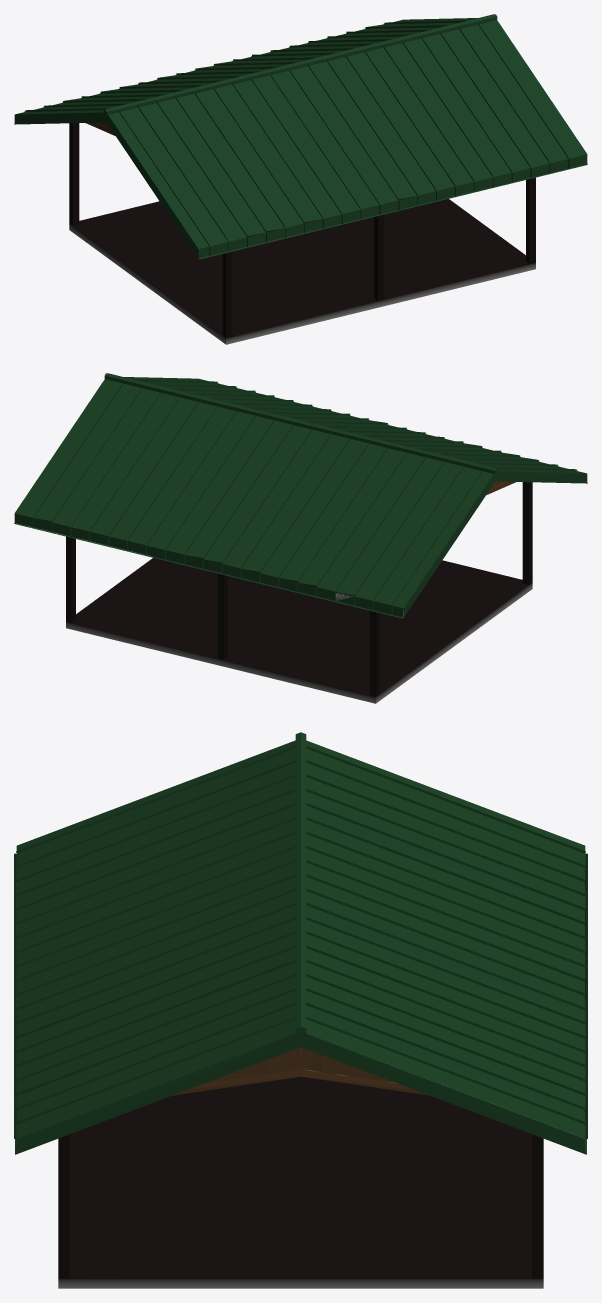
File: rest-shelter.lod0.glb
The picture shows the model from 3 angles, top to bottom: view 1: azimuth 30°, elevation 25°; view 2: azimuth 150°, elevation 25°; view 3: azimuth 270°, elevation 25°; orthographic projection. The views are drawn at different scales.
Parts seen in each view (by area): view 1: Material2; view 2: Material2; view 3: Material2.
Boxes of the visible parts, x1,y1,x2,y2 form: Material2: [14, 14, 587, 344]; Material2: [14, 373, 587, 703]; Material2: [14, 732, 587, 1288].
Bounding box in the file's own units: 10.35 × 4.77 × 8.52.
